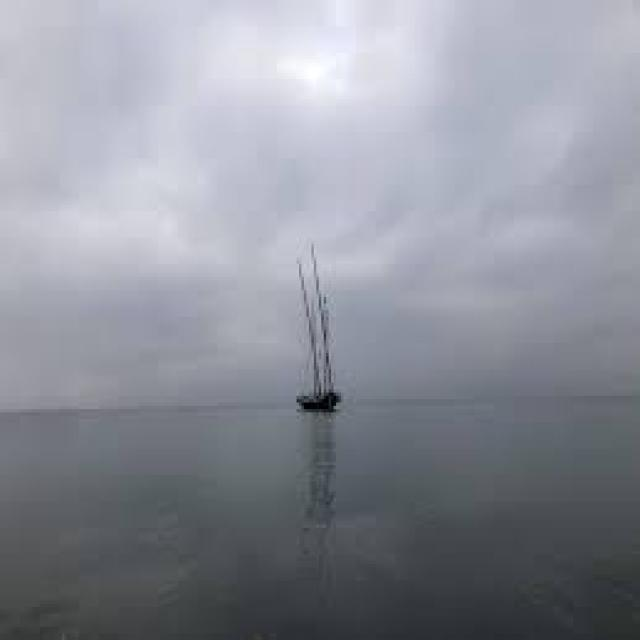fishing boat: (281, 260, 353, 411)
